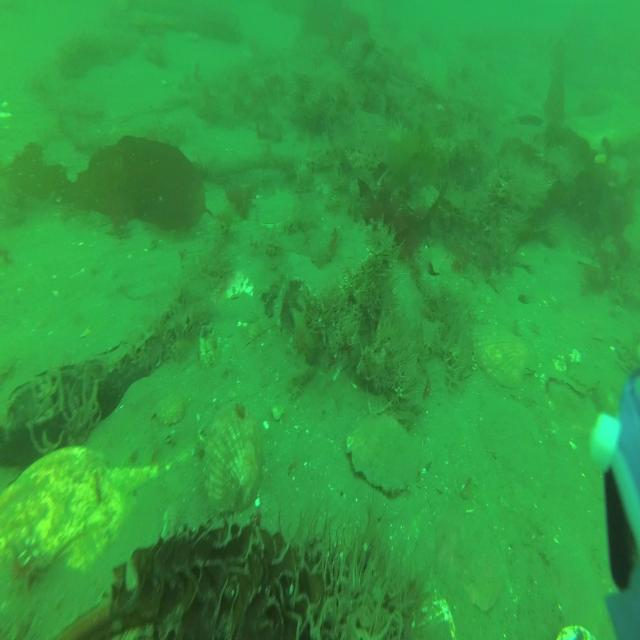scallop: (344, 409, 425, 502), (201, 410, 267, 518), (470, 318, 540, 392)
